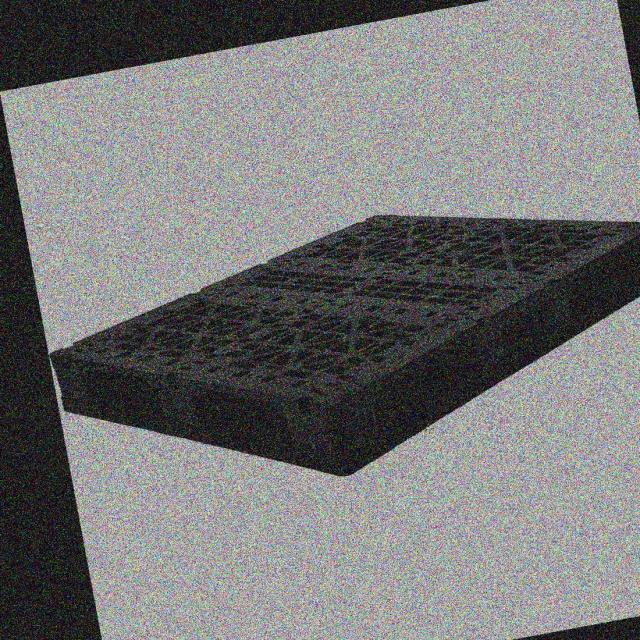non-igps: (44, 204, 640, 485)
